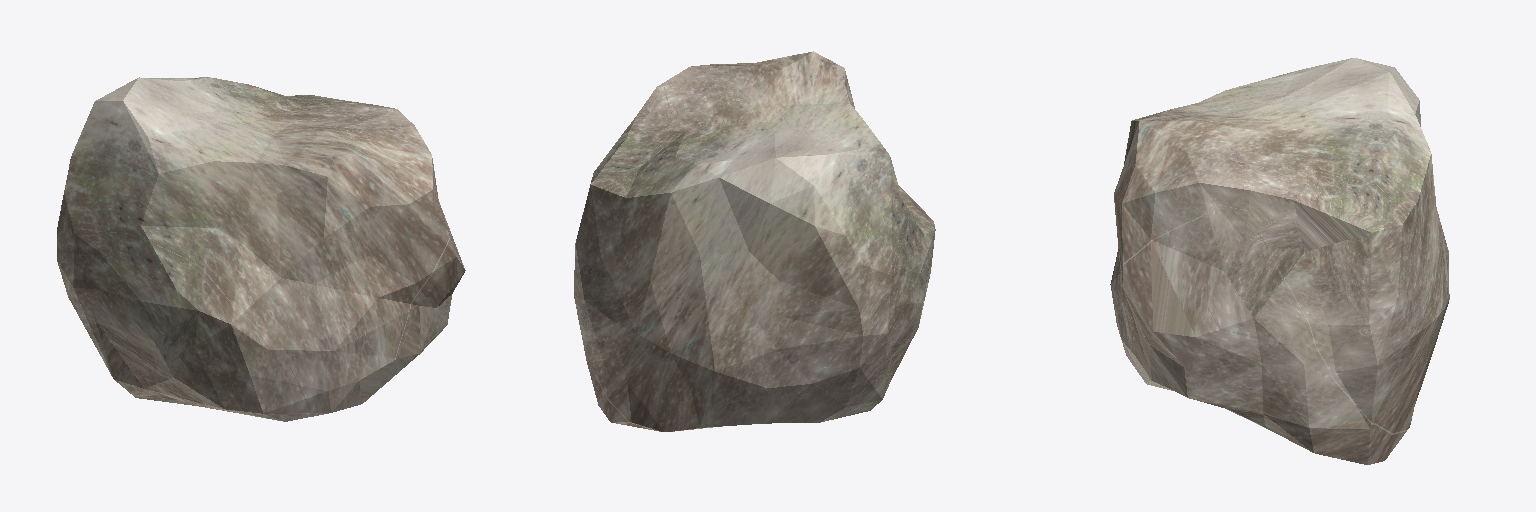
3 views of the same model, side by side, from view 1: azimuth 30°, elevation 25°; view 2: azimuth 150°, elevation 25°; view 3: azimuth 270°, elevation 25° (orthographic).
Size of the model in its own units: 2.28 by 2.19 by 2.19.
Materials: 1 (1 with a texture image).